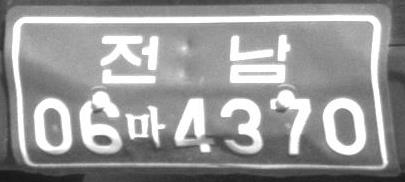0: (322, 96, 367, 156), (31, 96, 73, 156)
3: (219, 96, 265, 155)
4: (172, 96, 215, 153)
6: (78, 97, 123, 155)
7: (268, 96, 312, 156)
마: (125, 104, 165, 149)
전남_D: (99, 32, 291, 85)
